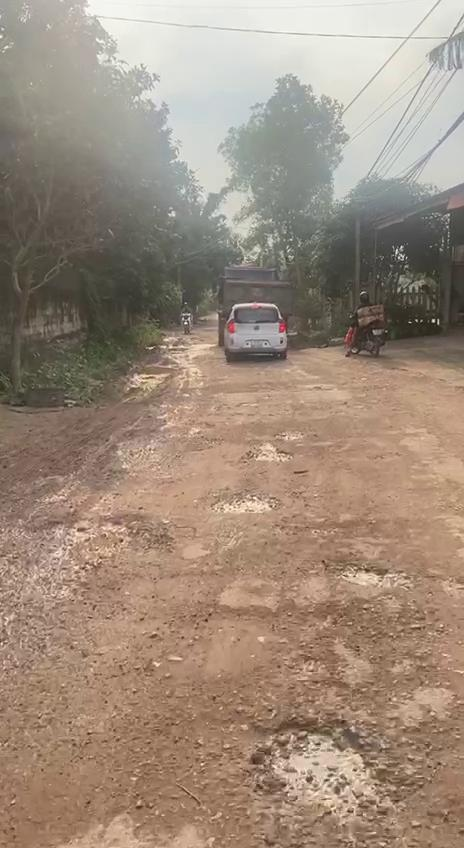pothole: (236, 710, 399, 828), (28, 513, 168, 591), (330, 552, 406, 594), (208, 489, 282, 518), (238, 438, 292, 465), (277, 429, 306, 442)
